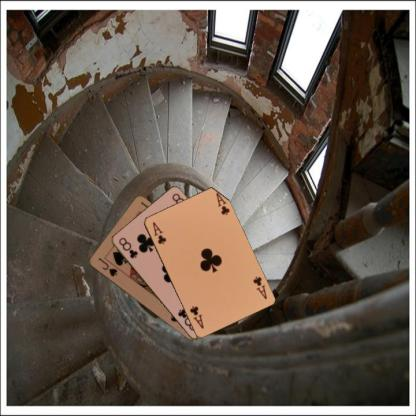8c: (116, 235, 139, 260)
Ac: (250, 274, 268, 300), (150, 219, 167, 246)
Js: (95, 255, 118, 278)
